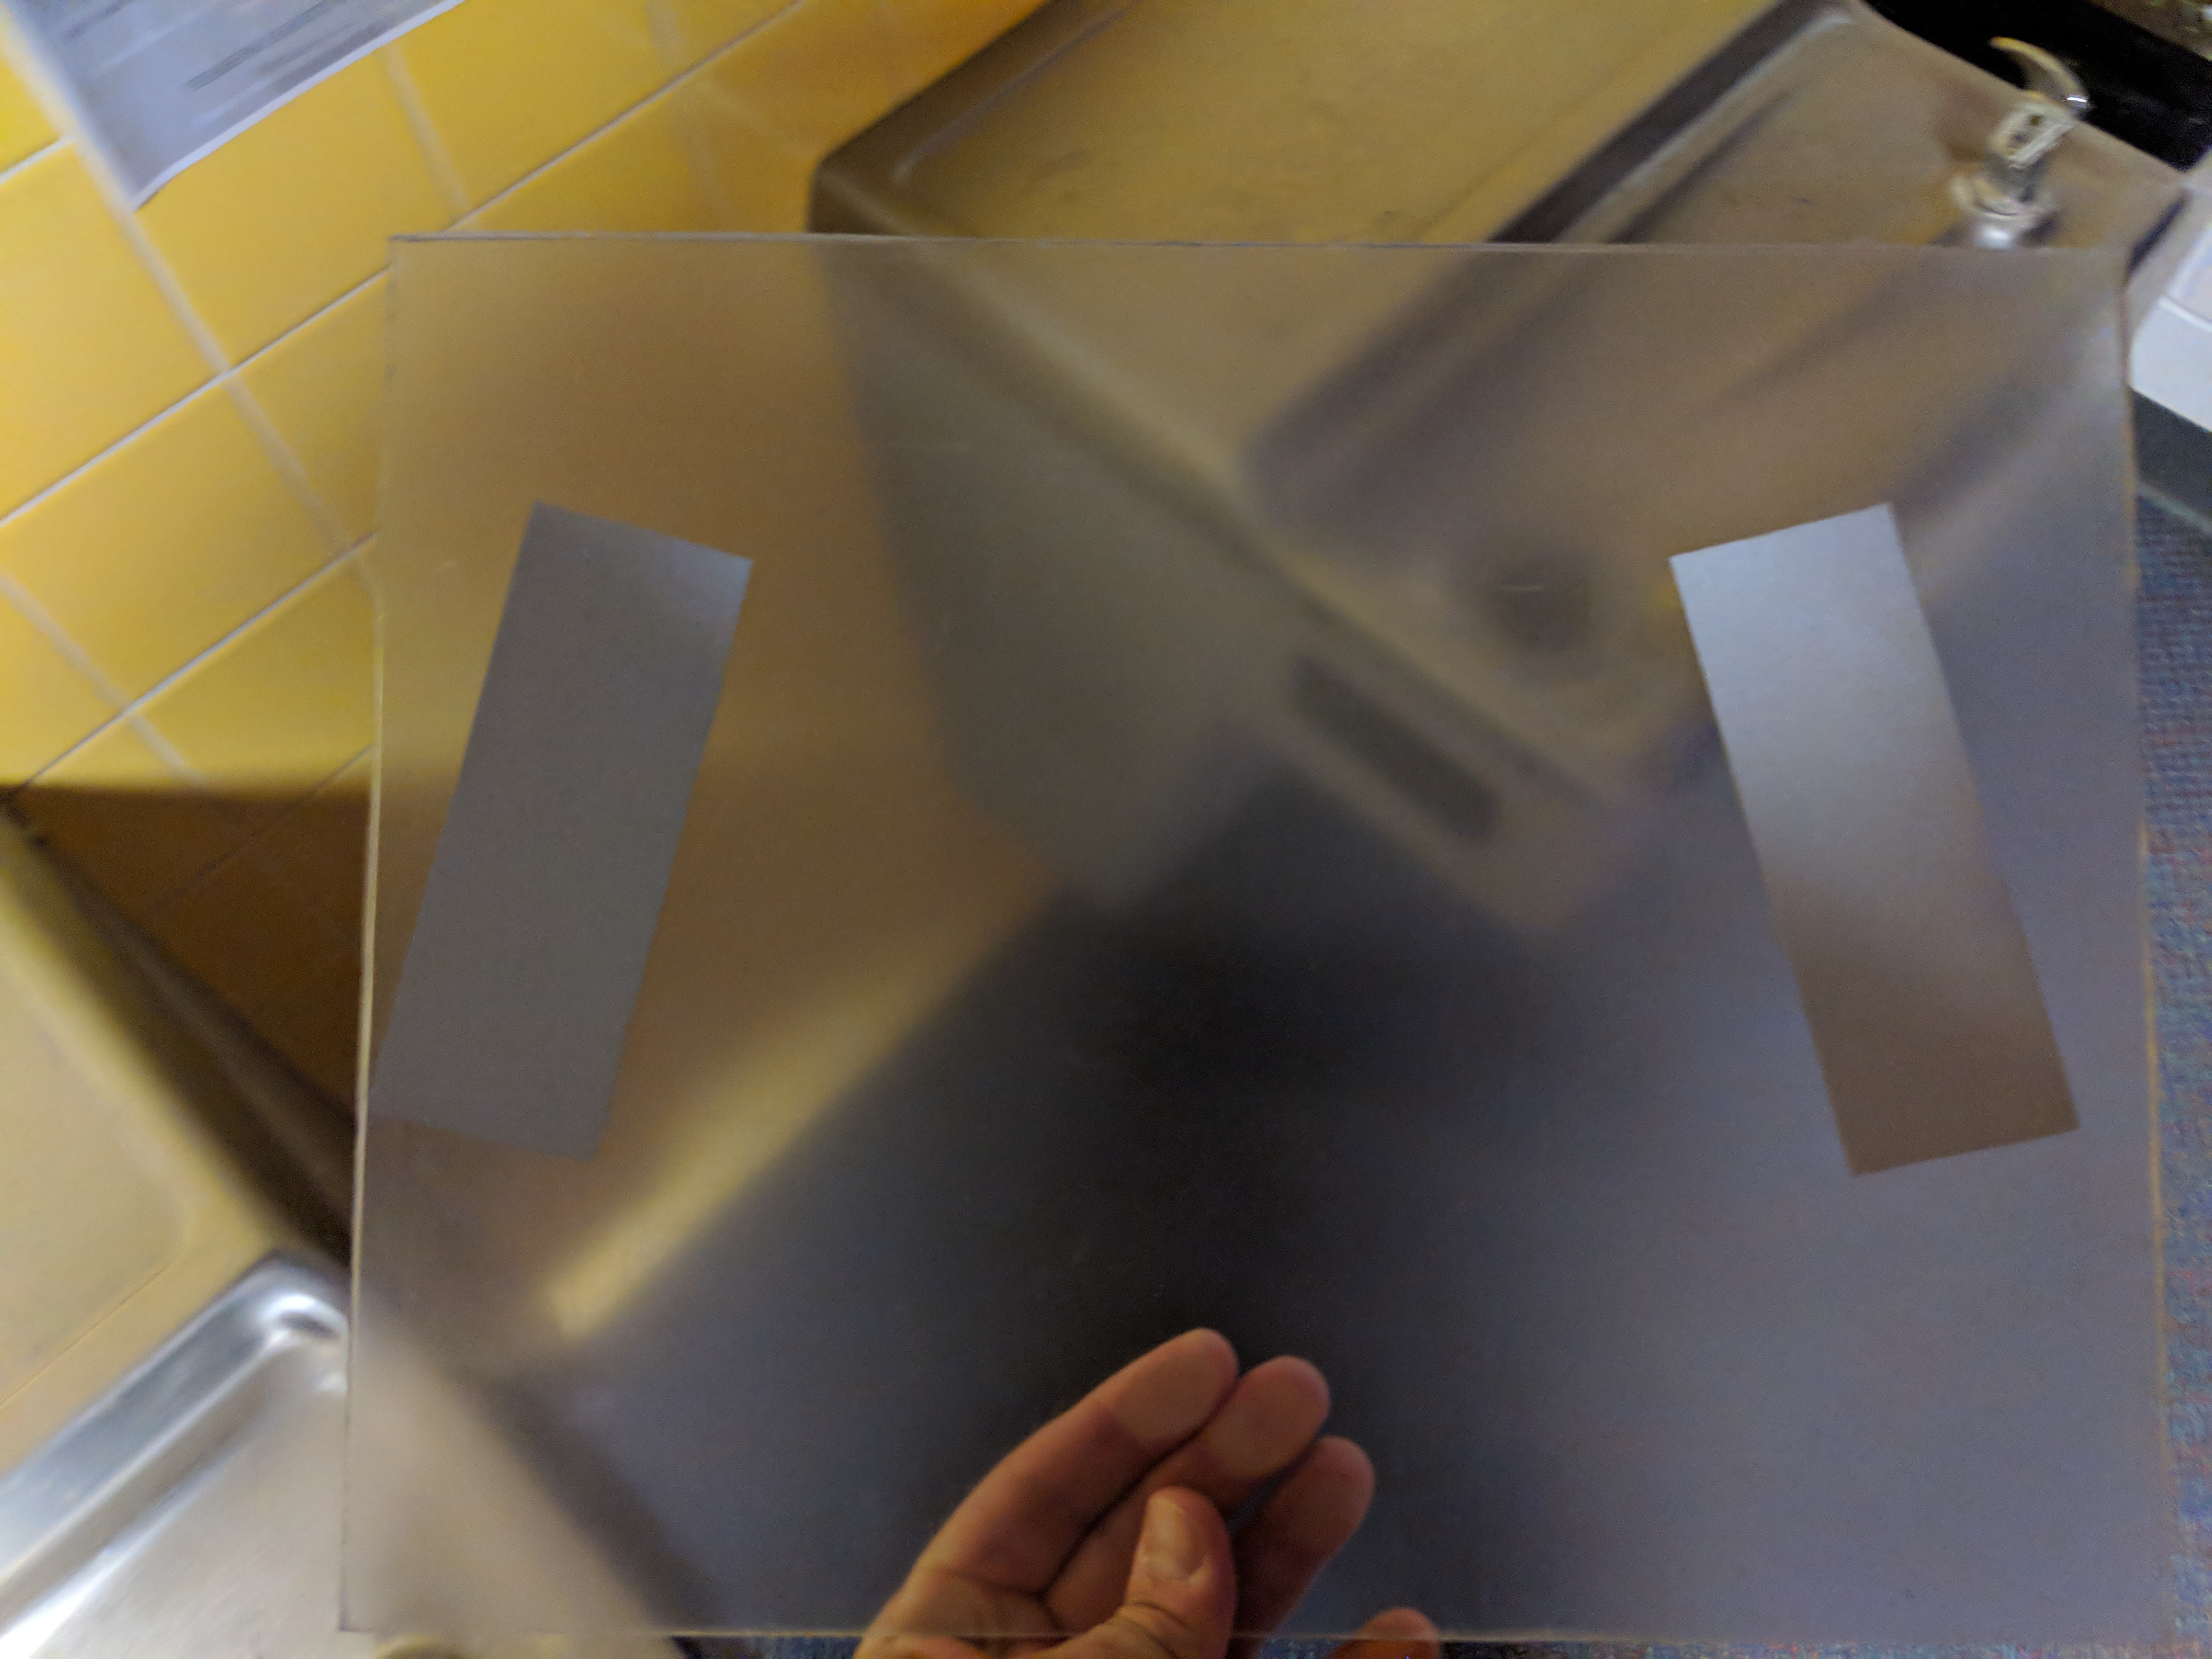vision_target: (338, 486, 2094, 1206)
